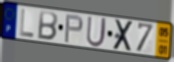7: (136, 21, 155, 54)
B: (36, 10, 59, 42)
L: (19, 8, 36, 39)
P: (64, 14, 85, 44)
U: (85, 15, 108, 49)
X: (112, 19, 135, 53)
